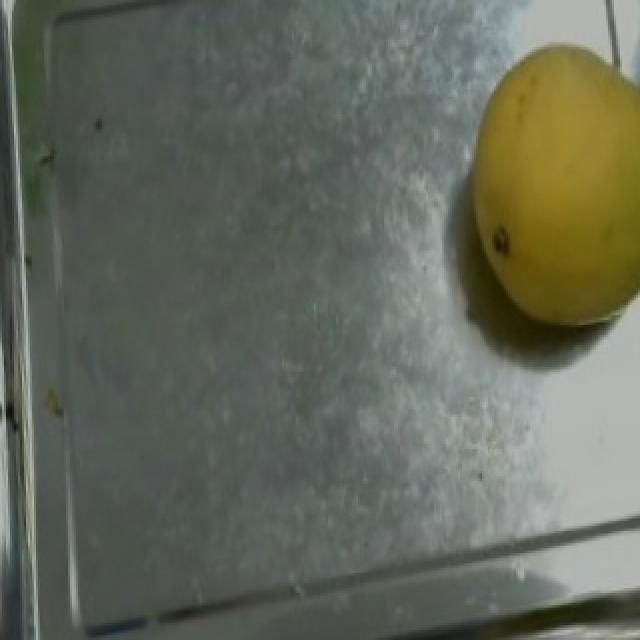fruit: (452, 24, 640, 360)
